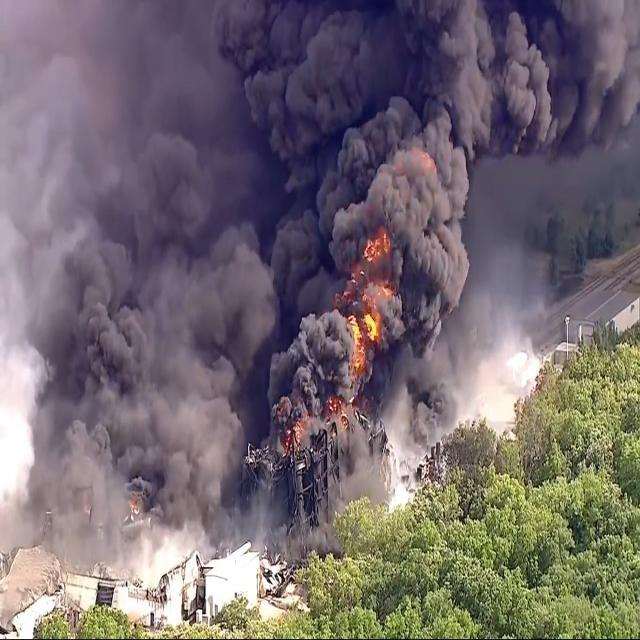Fire: (322, 226, 392, 448), (274, 398, 310, 459)
Smoke: (216, 0, 640, 452), (24, 140, 277, 554)
